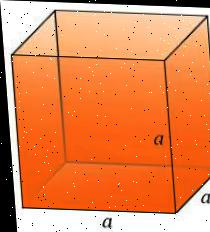cube: (5, 7, 210, 215)
